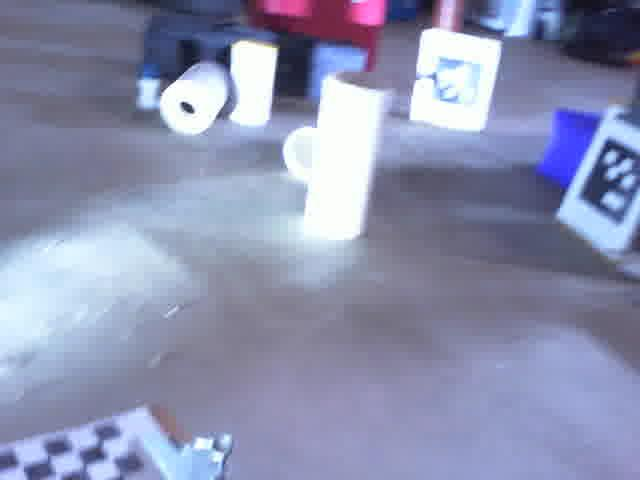coral: (304, 74, 389, 237), (283, 124, 321, 178)
